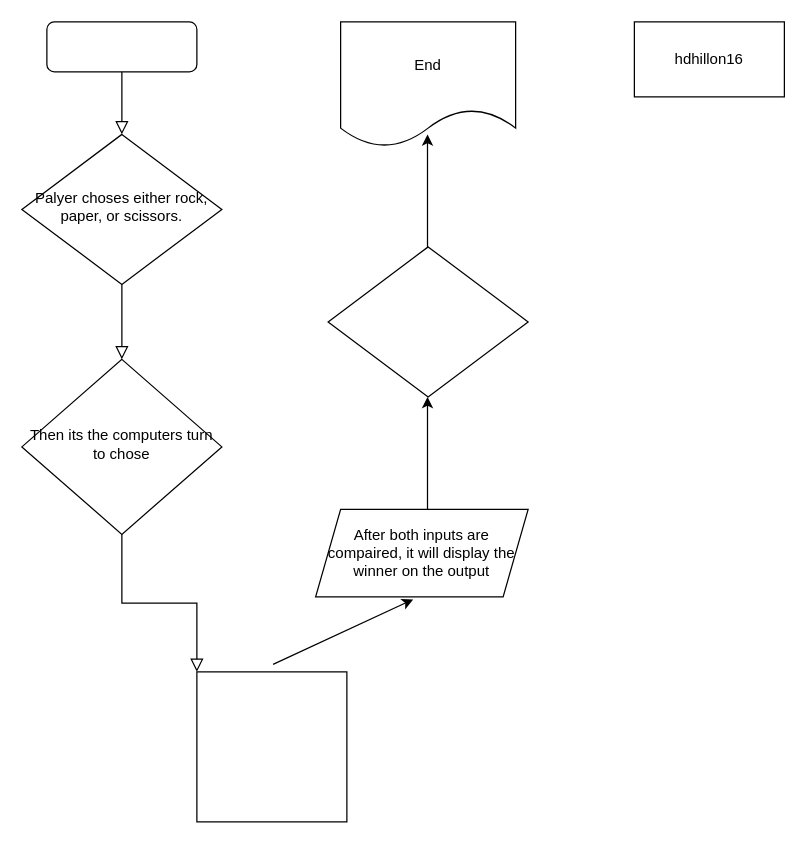
Image size: 806x844. Some labels were removed from this diagram. Here are the shapes that lost their labels. From the top down, the centre of each, then its label:
At point 121,46: "Start game".
At point 427,321: "Will finally ask if the user wants to play again".
At point 271,746: "Both choises are then compiared to determine the winner".
